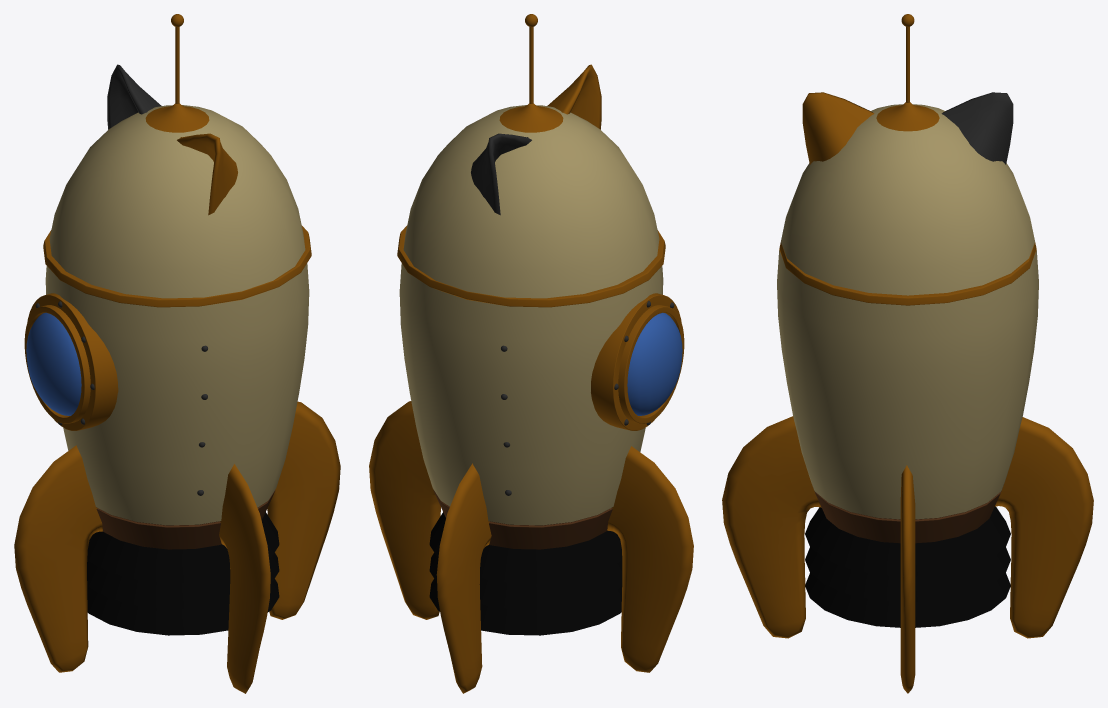
The model's file is lowPolyRocket.obj.
3 renders of one model, left to right at view 1: azimuth 30°, elevation 25°; view 2: azimuth 150°, elevation 25°; view 3: azimuth 270°, elevation 25°, orthographic.
Visible parts, largest first — view 1: pCube6; view 2: pCube6; view 3: pCube6.
Part boxes in pixels (bbox=[...]): pCube6: bbox=[14, 14, 340, 693]; pCube6: bbox=[369, 14, 693, 693]; pCube6: bbox=[722, 14, 1093, 693].
Bounding box in the file's own units: 7.02 × 13 × 7.02.
